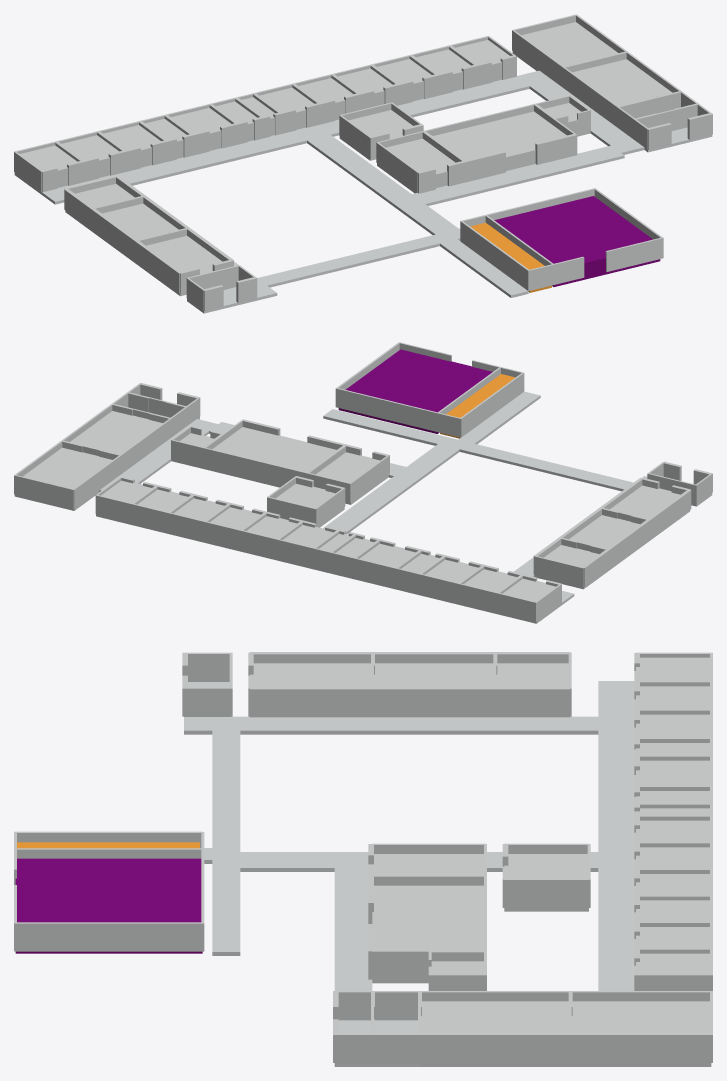
File: level-2.glb
The picture shows the model from 3 angles, top to bottom: view 1: azimuth 30°, elevation 25°; view 2: azimuth 150°, elevation 25°; view 3: azimuth 270°, elevation 25°; orthographic projection. The views are drawn at different scales.
Parts seen in each view (by area): view 1: Hall | floor.001, E corridor.001, Staff Room | floor, B west link.001, B south corridor.001, A north link.001, Design & TechnologyWorkshop 02 | floor, Technology RoomDesign Studio | floor, Computer 03 | floor, C corridor.001, Computer 04 | floor, Staff Workroom | floor (+42 smaller); view 2: Hall | floor.001, A north link.001, Staff Room | floor, B west link.001, Hall | wall N.001, Technology RoomDesign Studio | floor, Design & TechnologyWorkshop 02 | floor, Staff Room | wall N, Computer 04 | floor, Computer 03 | floor, Hall | wall W.001, C corridor.001 (+45 smaller); view 3: Hall | floor.001, E corridor.001, Staff Room | floor, F corridor.001, A north link.001, Stage | wall E.001, Design & TechnologyWorkshop 02 | floor, Technology RoomDesign Studio | floor, Design & TechnologyWorkshop 02 | wall E, Technology RoomDesign Studio | wall E, B south corridor.001, Computer 03 | wall E (+43 smaller).
Boxes of the visible parts, x1,y1,x2,y2 form: Hall | floor.001: (494, 196, 660, 286); E corridor.001: (41, 70, 552, 204); Staff Room | floor: (433, 111, 566, 170); B west link.001: (307, 135, 458, 234); B south corridor.001: (412, 145, 624, 205); A north link.001: (257, 228, 460, 287); Design & TechnologyWorkshop 02 | floor: (572, 59, 672, 105); Technology RoomDesign Studio | floor: (512, 22, 618, 70); Computer 03 | floor: (136, 236, 221, 296); C corridor.001: (529, 80, 644, 154); Computer 04 | floor: (92, 203, 178, 263); Staff Workroom | floor: (377, 138, 454, 193); Hall | floor.001: (338, 349, 492, 433); A north link.001: (323, 409, 633, 491); Staff Room | floor: (204, 427, 336, 487); B west link.001: (323, 444, 459, 534); Hall | wall N.001: (335, 388, 461, 437); Technology RoomDesign Studio | floor: (14, 447, 112, 510); Design & TechnologyWorkshop 02 | floor: (70, 411, 162, 454); Staff Room | wall N: (203, 448, 306, 485); Computer 04 | floor: (569, 515, 649, 570); Computer 03 | floor: (610, 485, 690, 540); Hall | wall W.001: (460, 372, 524, 437); C corridor.001: (112, 419, 218, 483); Hall | floor.001: (15, 858, 202, 953); E corridor.001: (598, 681, 634, 990); Staff Room | floor: (372, 885, 483, 983); F corridor.001: (184, 716, 598, 734); A north link.001: (212, 728, 240, 955); Stage | wall E.001: (14, 922, 202, 951); Design & TechnologyWorkshop 02 | floor: (419, 1001, 570, 1066); Technology RoomDesign Studio | floor: (570, 1001, 711, 1066); Design & TechnologyWorkshop 02 | wall E: (419, 1033, 570, 1063); Technology RoomDesign Studio | wall E: (570, 1033, 711, 1063); B south corridor.001: (334, 868, 372, 990); Computer 03 | wall E: (250, 687, 372, 717).
Bounding box in the file's own units: 96.22 × 3.75 × 74.2.
